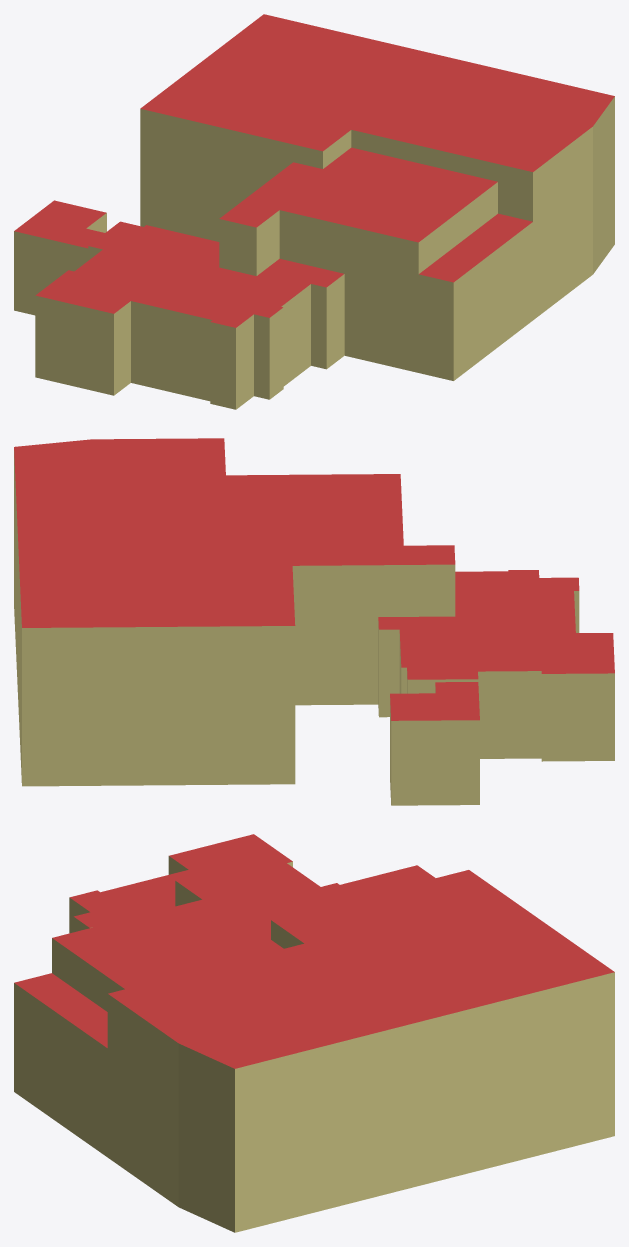
3 views of the same model, one above another, from view 1: azimuth 30°, elevation 25°; view 2: azimuth 150°, elevation 25°; view 3: azimuth 270°, elevation 25° (orthographic). The views are drawn at different scales.
Bounding box in the file's own units: 50.52 × 41.63 × 12.53.
